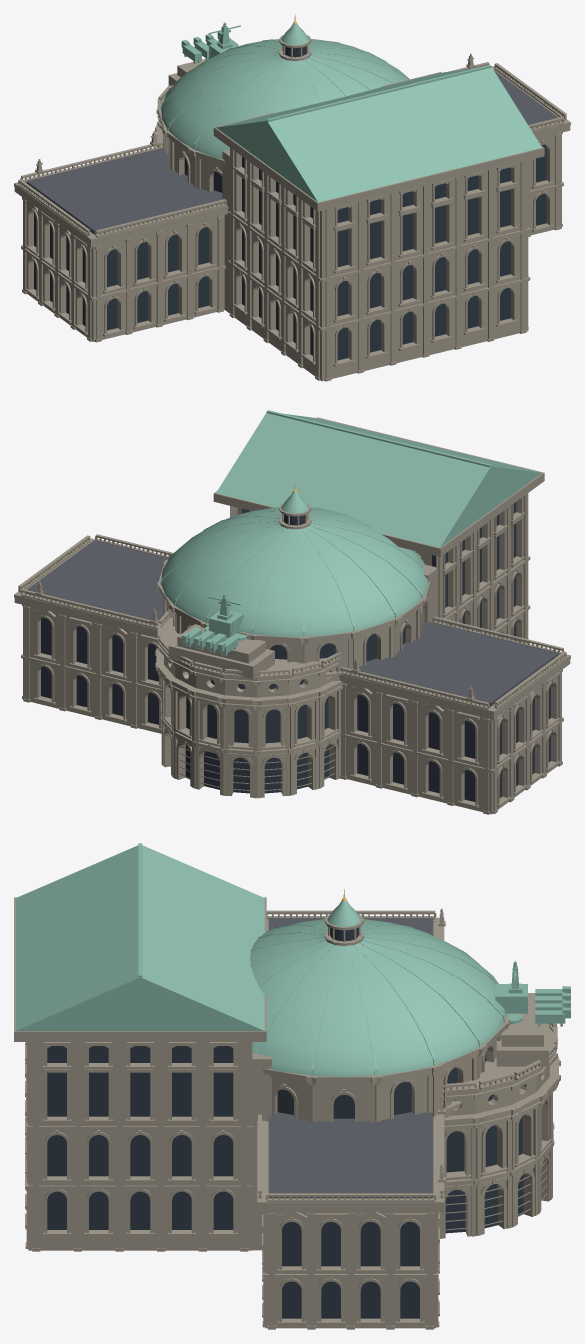
The model's file is semperoper.glb.
3 renders of one model, top to bottom at view 1: azimuth 30°, elevation 25°; view 2: azimuth 150°, elevation 25°; view 3: azimuth 270°, elevation 25°, orthographic. The views are drawn at different scales.
Parts seen in each view (by area): view 1: semperoper; view 2: semperoper; view 3: semperoper.
Part boxes in pixels (x1,y1,x2,y2): semperoper: [14, 14, 570, 381]; semperoper: [14, 410, 570, 814]; semperoper: [14, 843, 570, 1329].
Size of the model in its own units: 102 by 50.3 by 84.64.
